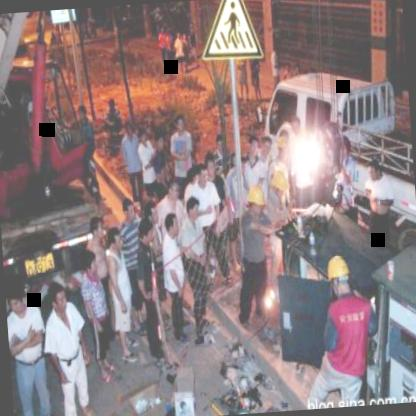head: (46, 278, 70, 314), (5, 284, 27, 317), (79, 248, 100, 278), (116, 196, 138, 222), (136, 214, 155, 244), (86, 214, 106, 242), (163, 176, 183, 204), (366, 157, 385, 185), (182, 196, 203, 221), (243, 134, 261, 162), (144, 198, 161, 227), (162, 210, 179, 236), (193, 162, 211, 186), (106, 226, 123, 250), (288, 112, 304, 137), (75, 101, 88, 123), (172, 115, 186, 134)
helmet: (324, 251, 354, 302), (244, 181, 265, 217), (268, 168, 289, 201)
